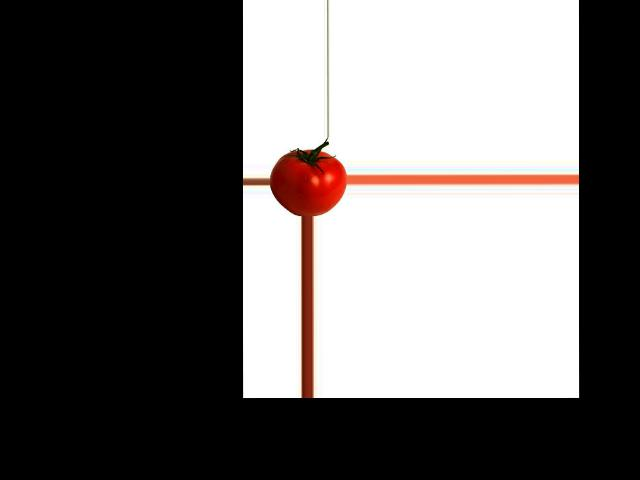tomato: (269, 149, 346, 215)
